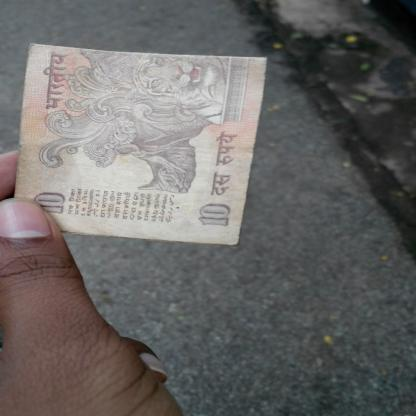Old10Back: (13, 44, 268, 247)
